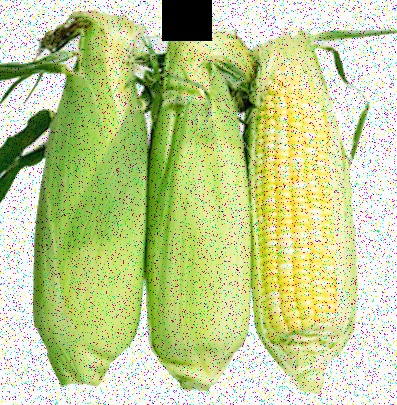corn: (249, 23, 357, 383)
corn_plant: (9, 1, 148, 388), (153, 22, 245, 381)
